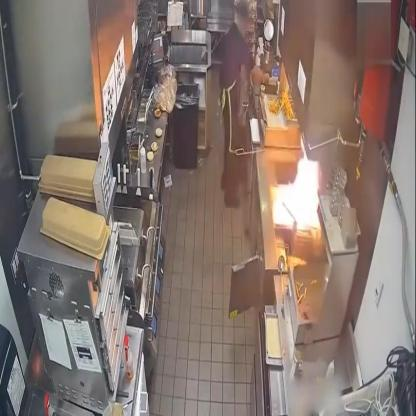fire: (272, 148, 320, 237)
